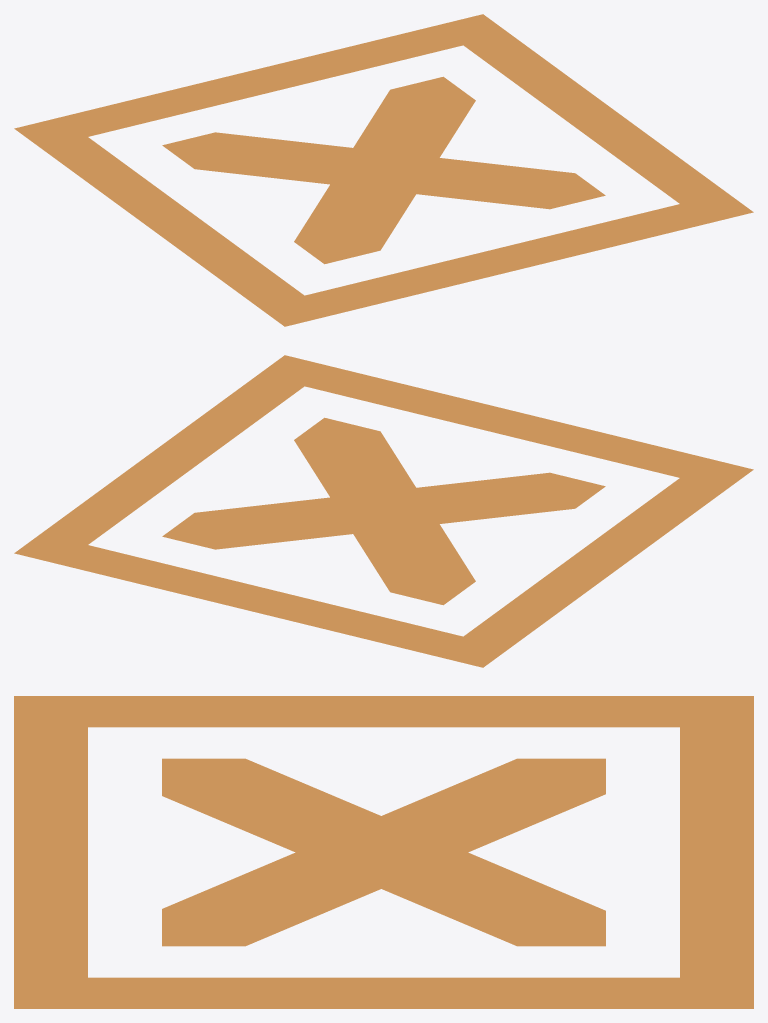
The model's file is kenney-factory-indicator-special-cross.glb.
The picture shows the model from 3 angles, top to bottom: view 1: azimuth 30°, elevation 25°; view 2: azimuth 150°, elevation 25°; view 3: azimuth 270°, elevation 25°; orthographic projection. The views are drawn at different scales.
Visible parts, largest first — view 1: indicator-special-cross; view 2: indicator-special-cross; view 3: indicator-special-cross.
Boxes of the visible parts, x1,y1,x2,y2 form: indicator-special-cross: [14, 14, 753, 326]; indicator-special-cross: [14, 355, 753, 667]; indicator-special-cross: [14, 696, 753, 1008].
Size of the model in its own units: 1.5 by 0 by 1.5.
1 material, 1 textured.
